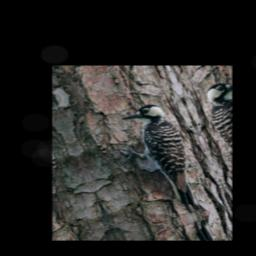Woodpecker: (100, 98, 217, 226)
